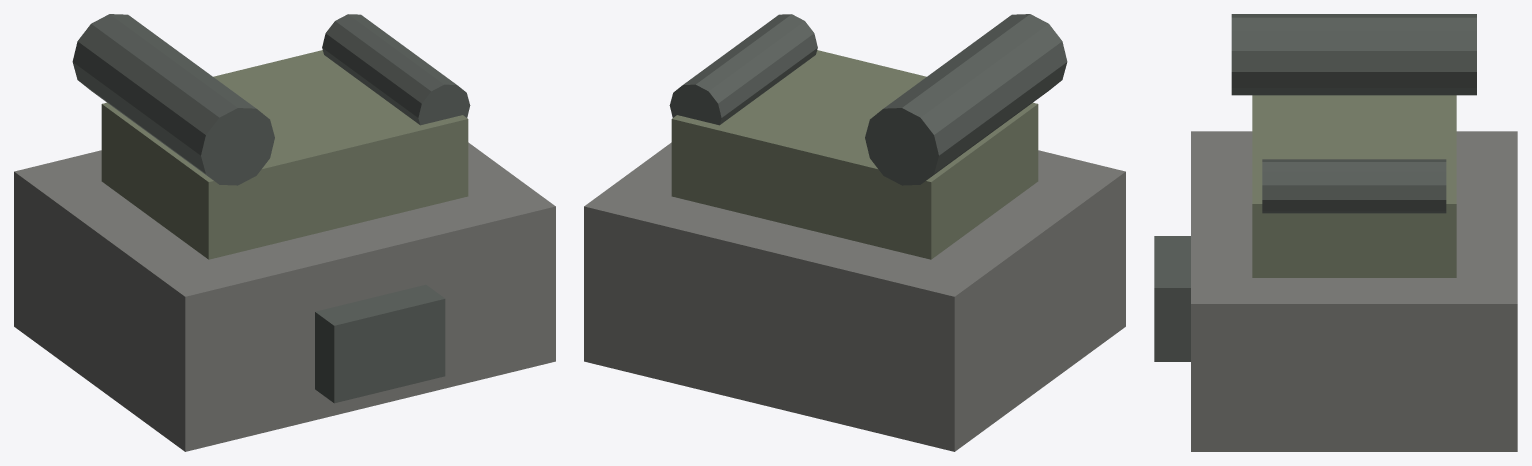
Rendered from factory.glb.
3 renders of one model, left to right at view 1: azimuth 30°, elevation 25°; view 2: azimuth 150°, elevation 25°; view 3: azimuth 270°, elevation 25°, orthographic. The views are drawn at different scales.
Visible parts, largest first — view 1: p0, p1, p2, p4, p3; view 2: p0, p1, p2, p3; view 3: p0, p1, p2, p3, p4.
Part boxes in pixels (box(x1,y1,x2,y2)): p0: box(14, 142, 555, 451); p1: box(101, 50, 468, 259); p2: box(72, 14, 274, 185); p4: box(315, 284, 445, 403); p3: box(322, 14, 470, 125); p0: box(584, 142, 1125, 451); p1: box(671, 50, 1038, 259); p2: box(865, 14, 1067, 185); p3: box(669, 14, 817, 125); p0: box(1191, 131, 1517, 451); p1: box(1252, 95, 1456, 277); p2: box(1231, 14, 1476, 95); p3: box(1262, 159, 1446, 213); p4: box(1154, 236, 1190, 361).
Bounding box in the file's own units: 10 × 8 × 8.9.
